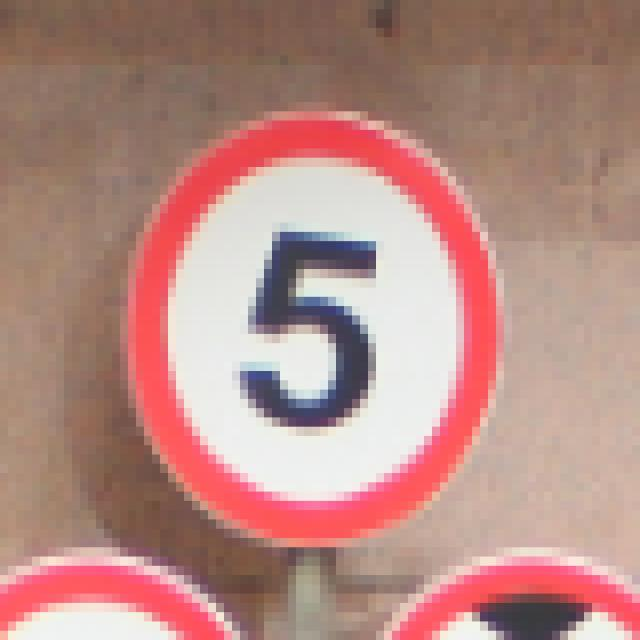Speed: (110, 87, 524, 568)
